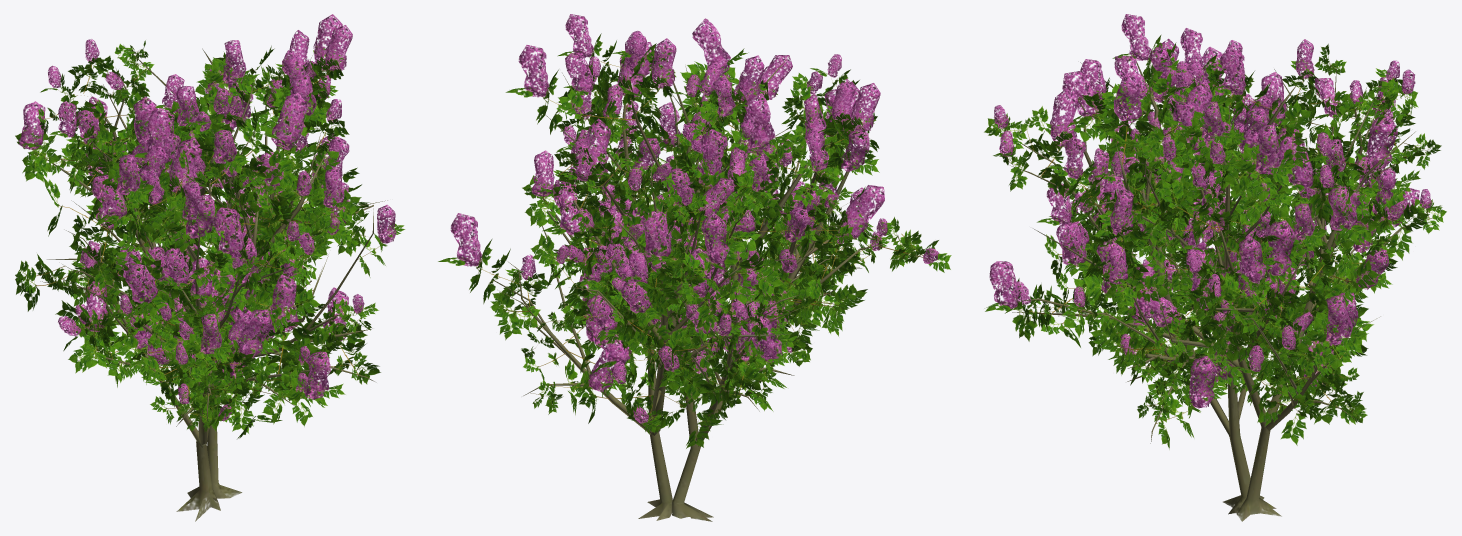
The model's file is lilas.glb.
The picture shows the model from 3 angles, left to right: view 1: azimuth 30°, elevation 25°; view 2: azimuth 150°, elevation 25°; view 3: azimuth 270°, elevation 25°; orthographic projection.
Parts seen in each view (by area): view 1: lilac_Lilac_0; view 2: lilac_Lilac_0; view 3: lilac_Lilac_0.
Boxes of the visible parts, x1,y1,x2,y2 form: lilac_Lilac_0: (15,14,405,521); lilac_Lilac_0: (438,14,951,521); lilac_Lilac_0: (984,14,1446,521).
Bounding box in the file's own units: 2.03 × 2.3 × 2.04.
1 material, 1 textured.
